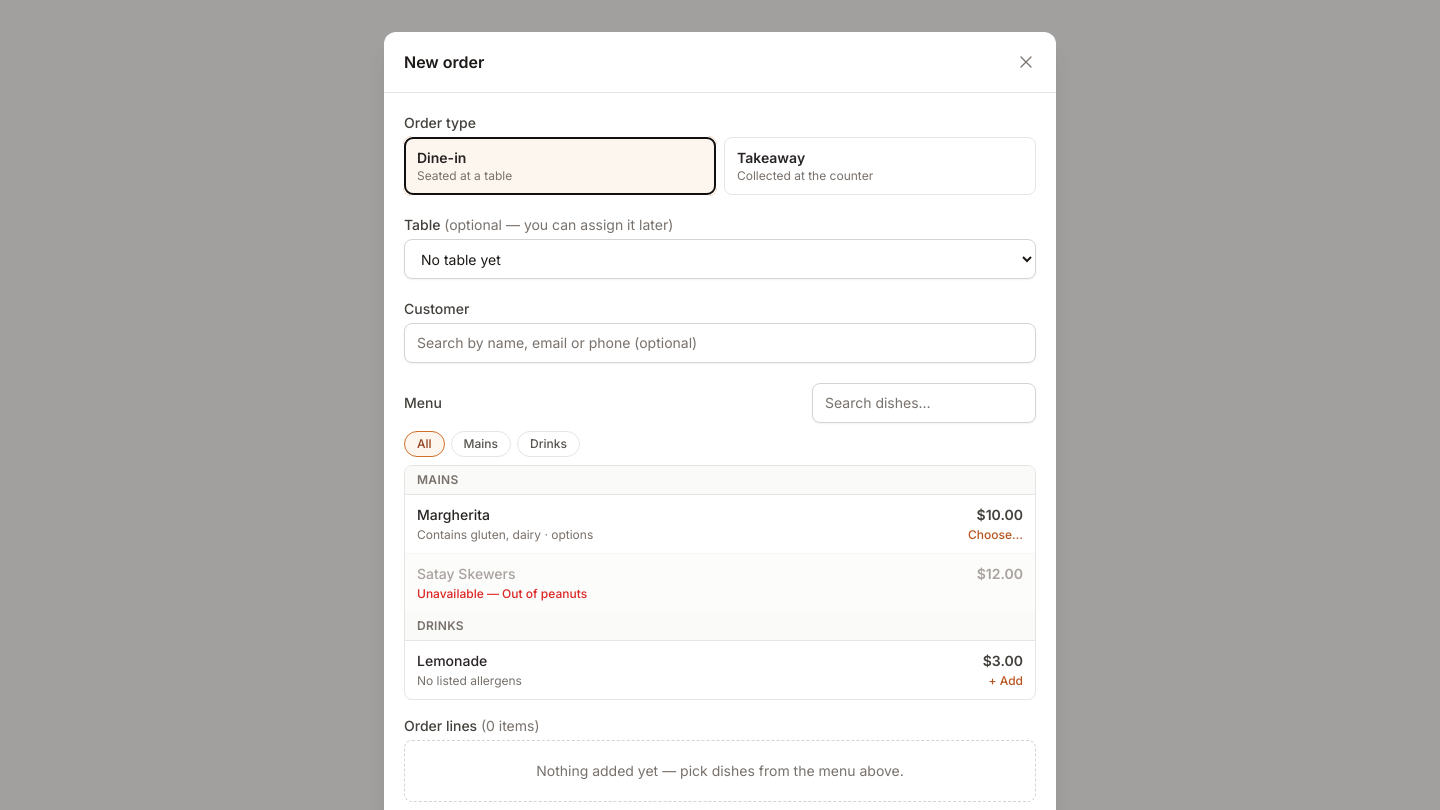
Test: NewOrderModal › warns when the chosen table is already occupied
This screenshot has width=1440, height=810.
Select "Table 9 · 4 seats · Main · Occupied" in the dropdown at (720, 259), box x1=404 y1=239 x2=1036 y2=279
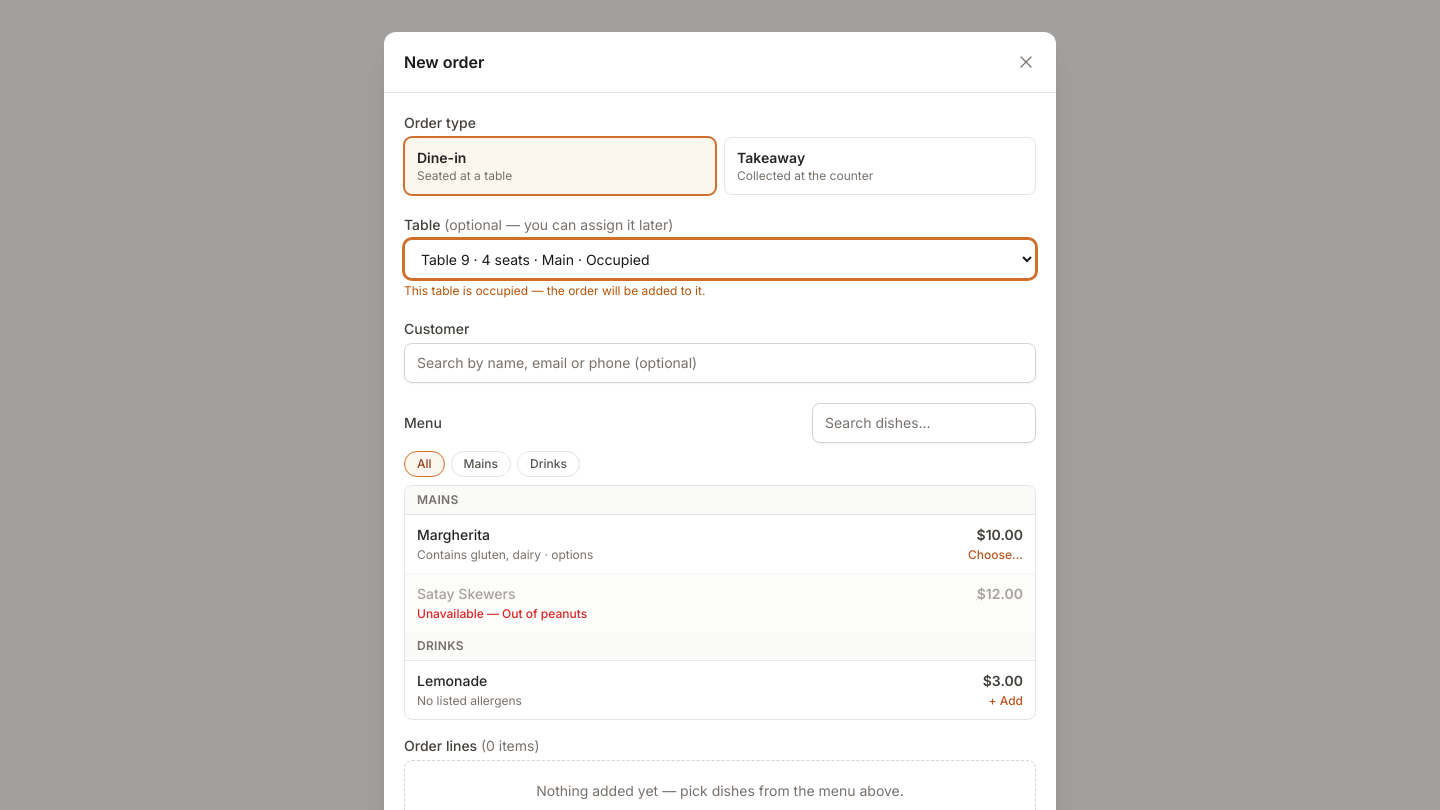
Now the text "This table is occupied — the order will be added to it." is shown, box x1=404 y1=283 x2=705 y2=298
